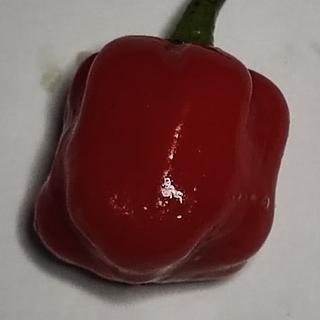Grade-A: (26, 28, 298, 286)
